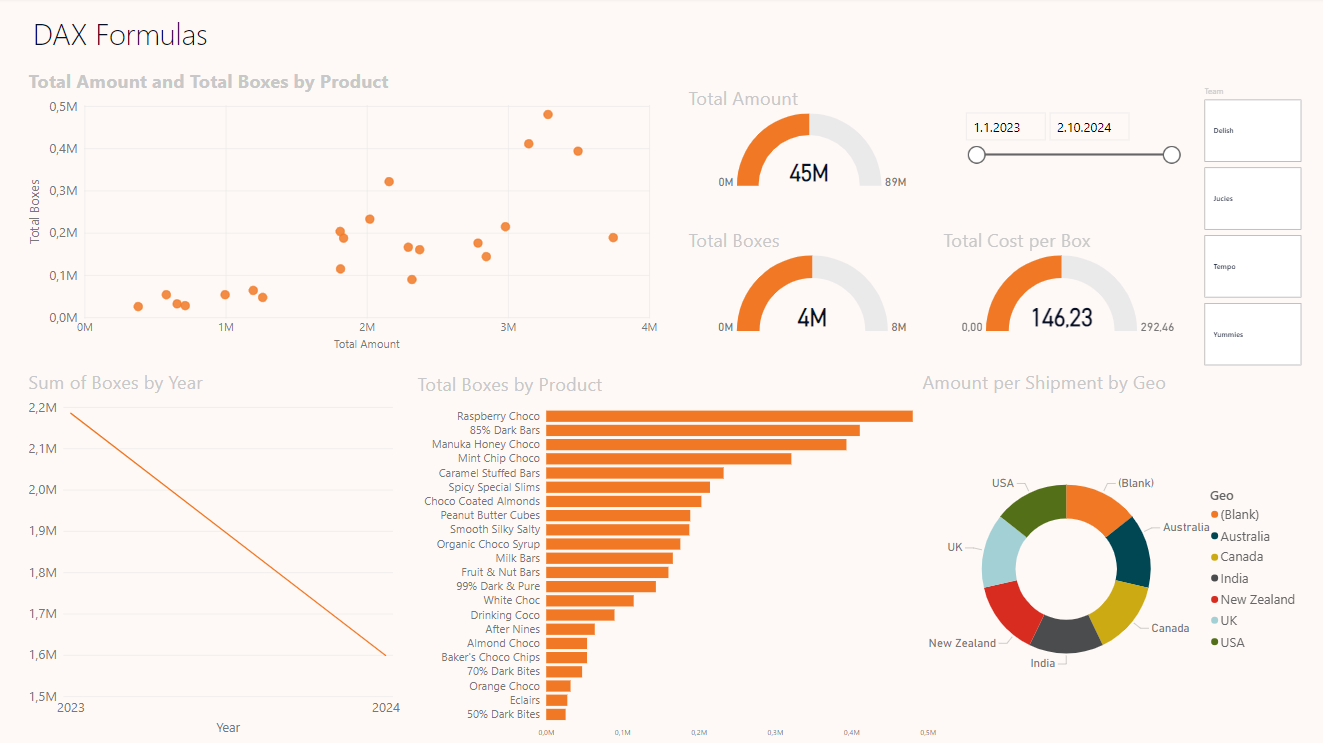

What the dashboard file says about the page in this screenshot:
{"tool":"powerbi","page":{"name":"DAX Formulas","canvas":[1920,1080],"ordinal":0},"visuals":[{"type":"scatterChart","fields":{"Category":["products.Product"],"X":["shipments.Total Amount"],"Y":["shipments.Total Boxes"]},"box":[40.5,102.6,918.8,413.2],"z":0},{"type":"clusteredBarChart","fields":{"Category":["products.Product"],"Y":["shipments.Total Boxes"]},"box":[602.5,540.6,759.4,540.6],"z":1000},{"type":"gauge","fields":{"Y":["shipments.Total Amount"]},"box":[994.1,126.8,367.8,155.4],"z":2000},{"type":"slicer","fields":{"Values":["calendar.cal_date"]},"box":[1387.3,142.7,344,166.5],"z":3000},{"type":"gauge","fields":{"Y":["shipments.Total Boxes"]},"box":[994.1,332.9,367.8,160.1],"z":4000},{"type":"advancedSlicerVisual","fields":{"Values":["people.Team"]},"box":[1739.3,126.8,150.6,410.6],"z":5000},{"type":"lineChart","fields":{"Category":["shipments.Shipdate.Variation.Date Hierarchy.Year","shipments.Shipdate.Variation.Date Hierarchy.Quarter","shipments.Shipdate.Variation.Date Hierarchy.Month","shipments.Shipdate.Variation.Date Hierarchy.Day"],"Y":["Sum(shipments.Boxes)"]},"box":[41.1,537.1,546.9,533.8],"z":6000},{"type":"donutChart","fields":{"Y":["shipments.Amount per Shipment"],"Category":["Dimension Data.Geo"]},"box":[1332,537.1,558.4,542],"z":7000},{"type":"gauge","fields":{"Y":["Sum(Dimension Data.Cost_per_box)"]},"box":[1361.9,332.9,369.4,160.1],"z":8000},{"type":"textbox","box":[0,0,1920,107.8],"z":9000}]}

Visuals, with their boxes in screenshot pixels (x1, y1, x2, y2), scaled from the page's 1920x1080 canvas onto the 1323x743 screenshot:
scatterChart - products.Product x shipments.Total Amount: x1=28 y1=71 x2=661 y2=355
clusteredBarChart - products.Product x shipments.Total Boxes: x1=415 y1=372 x2=938 y2=742
gauge - shipments.Total Amount: x1=685 y1=87 x2=938 y2=194
slicer - calendar.cal_date: x1=956 y1=98 x2=1193 y2=213
gauge - shipments.Total Boxes: x1=685 y1=229 x2=938 y2=339
advancedSlicerVisual - people.Team: x1=1198 y1=87 x2=1302 y2=370
lineChart - shipments.Shipdate.Variation.Date Hierarchy.Year x shipments.Shipdate.Variation.Date Hierarchy.Quarter: x1=28 y1=370 x2=405 y2=737
donutChart - shipments.Amount per Shipment x Dimension Data.Geo: x1=918 y1=370 x2=1303 y2=742
gauge - Sum(Dimension Data.Cost_per_box): x1=938 y1=229 x2=1193 y2=339
textbox: x1=0 y1=0 x2=1322 y2=74
